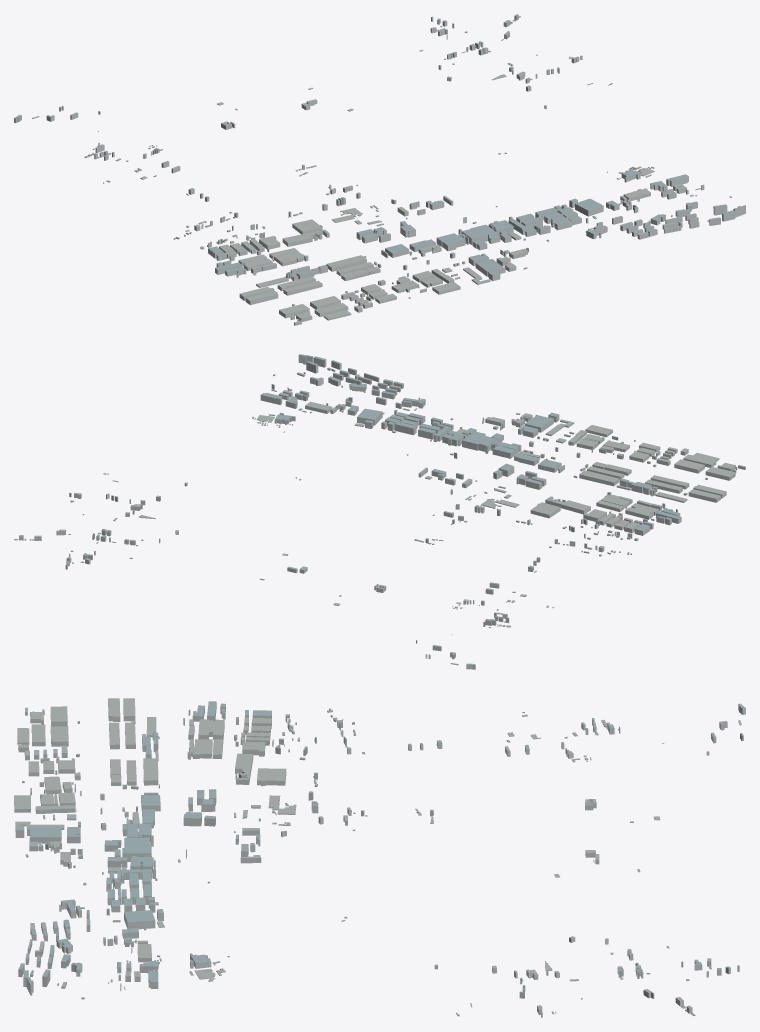
File: far.glb
The picture shows the model from 3 angles, top to bottom: view 1: azimuth 30°, elevation 25°; view 2: azimuth 150°, elevation 25°; view 3: azimuth 270°, elevation 25°; orthographic projection. The views are drawn at different scales.
Bounding box in the file's own units: 2150 × 33.9 × 2116.
